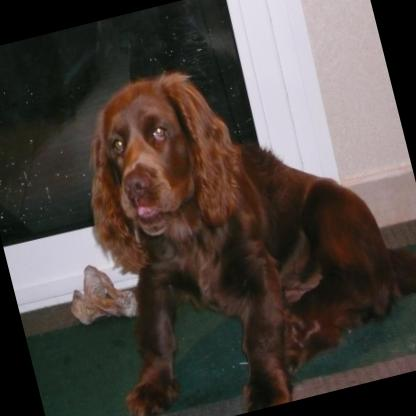Sussex_spaniel: (48, 19, 416, 416)
